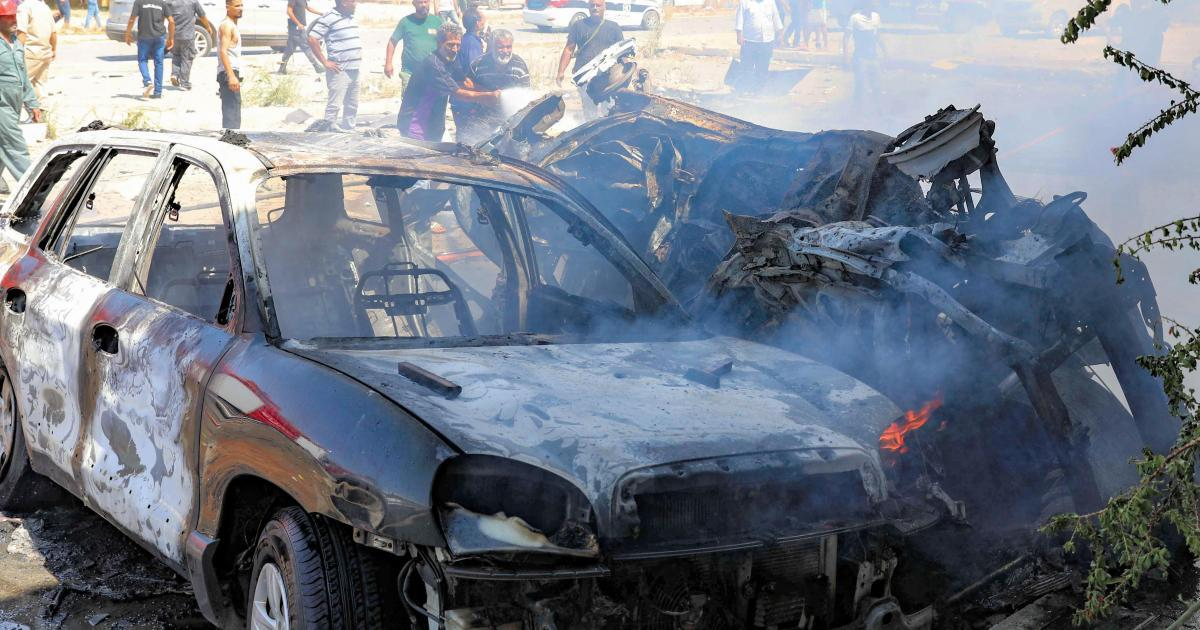fire: (876, 404, 935, 458)
smoke: (877, 222, 1181, 517), (466, 285, 874, 431), (995, 0, 1196, 218), (699, 0, 996, 130), (581, 133, 809, 200), (262, 219, 338, 344), (529, 201, 611, 285), (749, 481, 867, 529)
